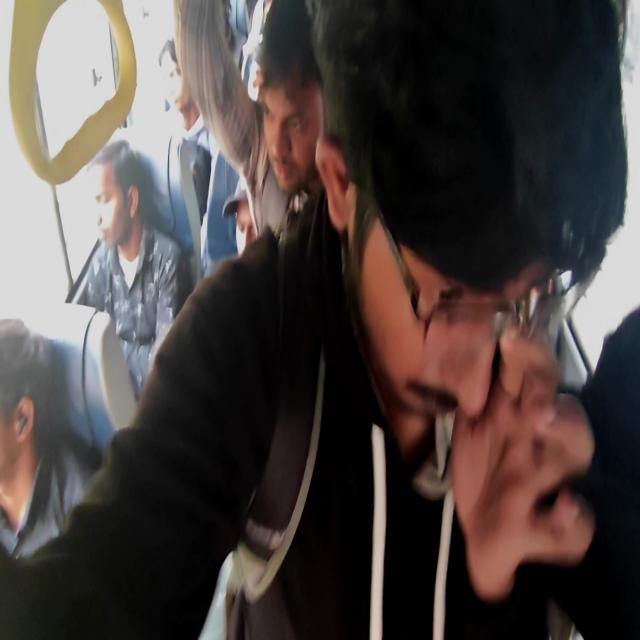person: (1, 0, 631, 638), (437, 304, 639, 638), (174, 0, 298, 254), (70, 138, 187, 400), (1, 316, 102, 560), (159, 3, 241, 279), (251, 0, 326, 202)
